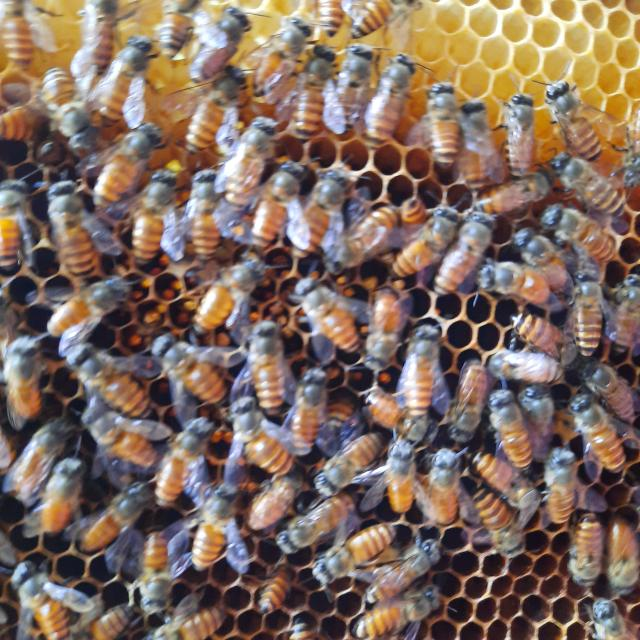honeybee: (150, 333, 232, 418), (98, 111, 174, 202), (192, 249, 274, 330), (67, 337, 152, 407), (7, 413, 72, 504), (227, 393, 291, 485), (191, 60, 253, 153), (80, 479, 150, 560), (75, 401, 161, 466), (247, 0, 307, 92), (314, 515, 400, 579), (546, 76, 612, 158), (224, 110, 283, 201), (539, 203, 618, 270), (45, 279, 126, 342), (321, 204, 396, 272), (307, 158, 353, 268), (184, 480, 239, 572), (252, 155, 302, 256), (282, 492, 356, 560), (98, 36, 159, 118), (440, 207, 497, 294), (289, 44, 337, 147), (366, 49, 418, 143), (158, 421, 216, 505), (398, 204, 460, 282), (50, 174, 96, 278), (36, 459, 90, 547), (578, 352, 640, 427), (9, 561, 67, 640), (188, 5, 248, 80), (299, 272, 354, 353), (554, 151, 624, 214), (402, 325, 450, 415), (358, 278, 407, 366), (345, 594, 450, 635), (318, 432, 387, 494), (360, 380, 436, 436), (361, 547, 445, 597), (572, 393, 623, 474), (128, 168, 173, 259), (0, 174, 39, 278), (0, 332, 45, 422), (418, 75, 467, 157), (248, 315, 294, 402), (41, 69, 88, 150), (375, 433, 416, 522), (294, 367, 338, 449), (512, 312, 575, 368), (445, 356, 490, 434), (474, 451, 540, 504), (427, 439, 465, 528), (336, 44, 371, 138), (77, 0, 121, 74), (473, 262, 548, 305), (184, 162, 221, 247), (489, 389, 532, 462), (462, 97, 497, 186), (542, 441, 576, 530), (157, 602, 236, 640), (490, 348, 560, 389), (252, 472, 303, 527), (572, 272, 606, 354), (565, 516, 602, 591), (1, 99, 57, 148), (515, 232, 560, 292), (574, 599, 640, 639), (475, 501, 516, 565), (0, 4, 38, 73), (609, 513, 640, 595), (504, 91, 534, 175), (347, 0, 408, 40), (156, 0, 194, 57), (257, 573, 303, 620), (90, 596, 135, 640), (315, 0, 342, 37)
